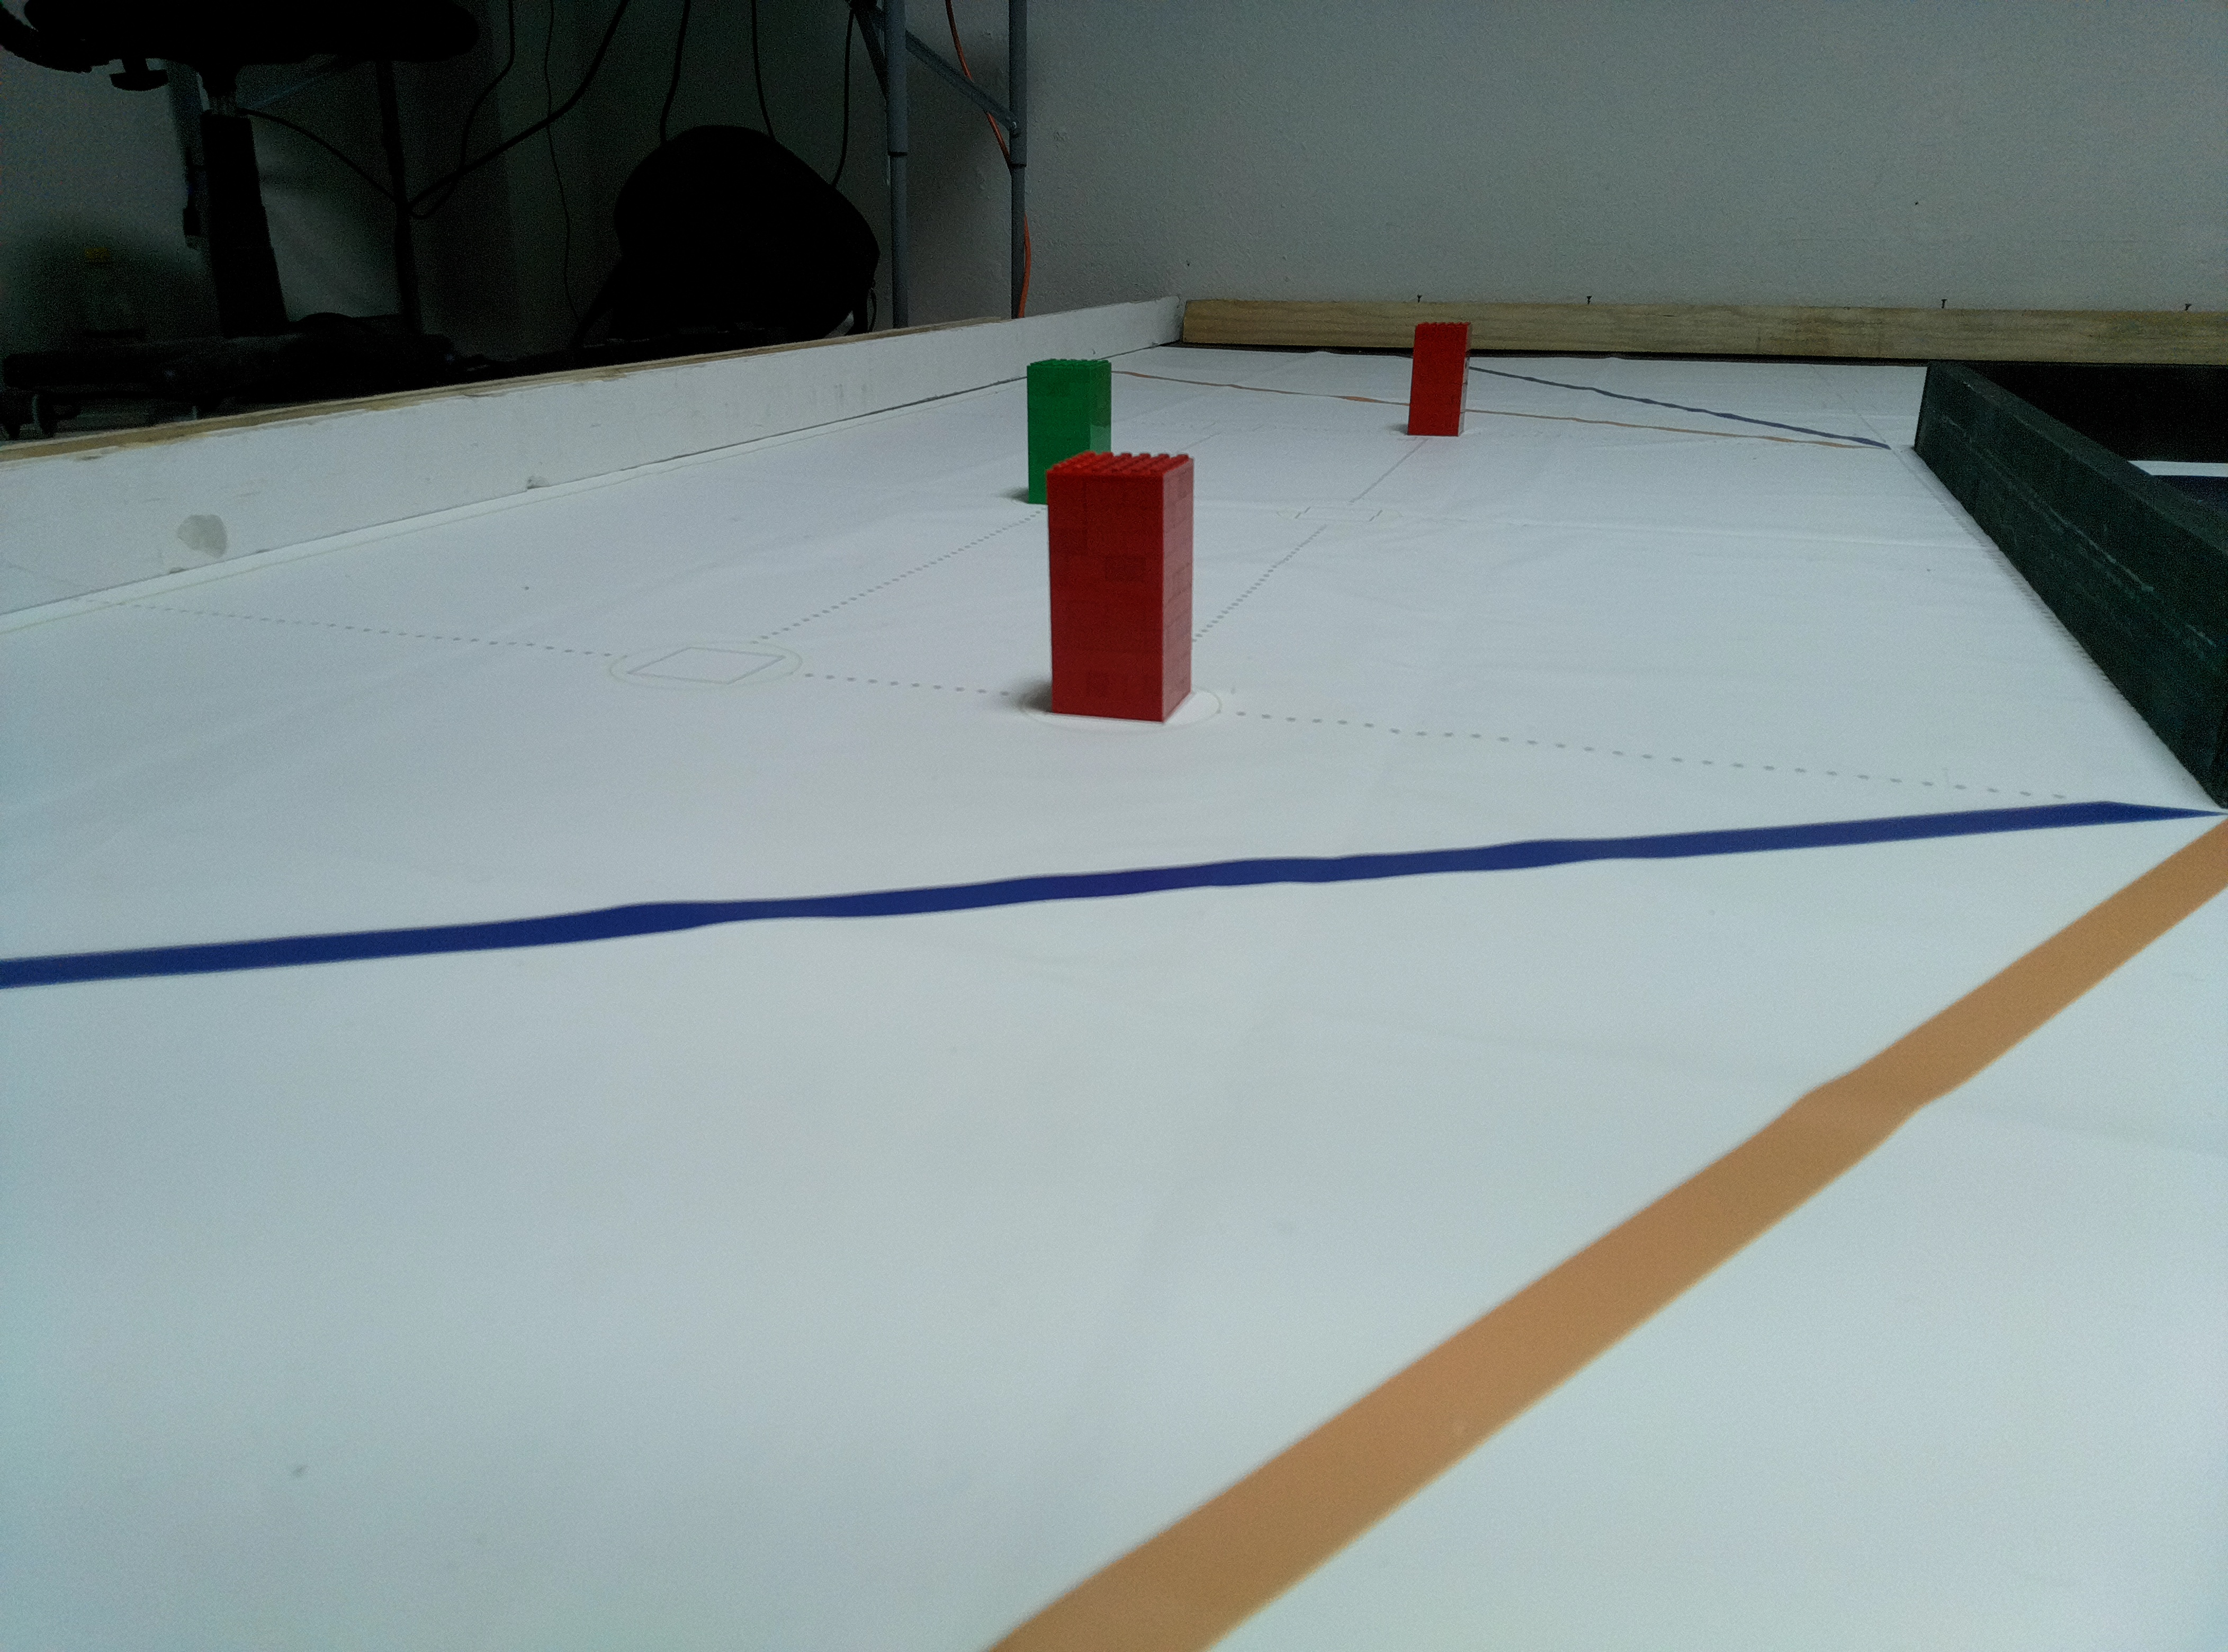greenbox: (1024, 356, 1114, 507)
redbox: (1043, 448, 1201, 724), (1406, 321, 1471, 437)
